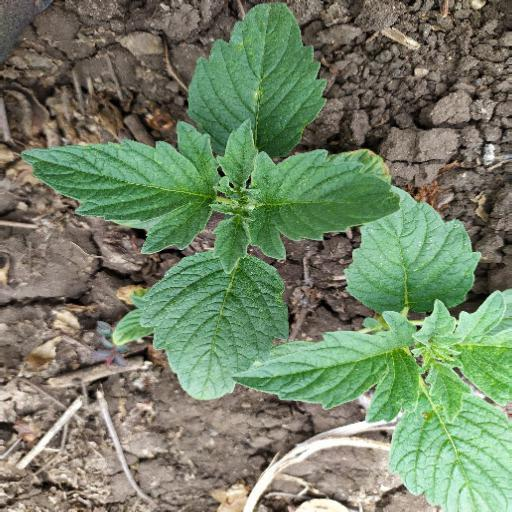crop: (17, 8, 397, 399), (238, 210, 509, 512)
